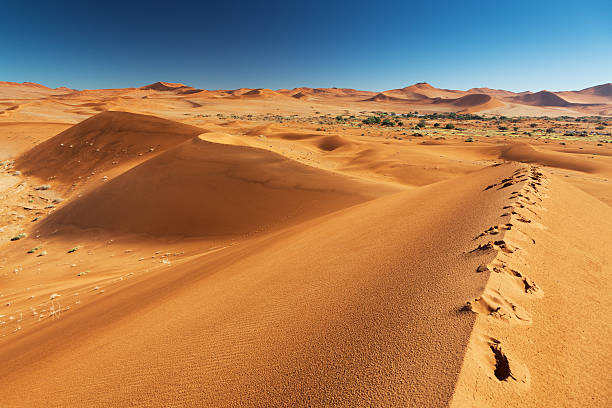human_foot_print: (468, 161, 549, 385)
